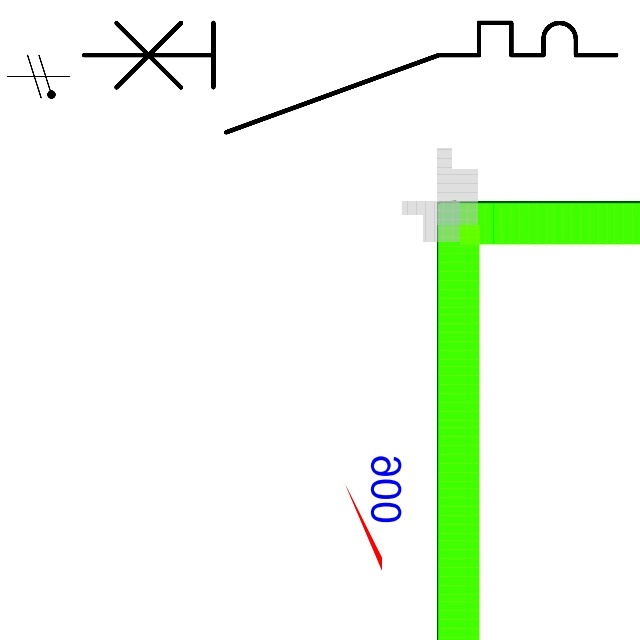interruptor_termomagnetico: (70, 9, 629, 146)
